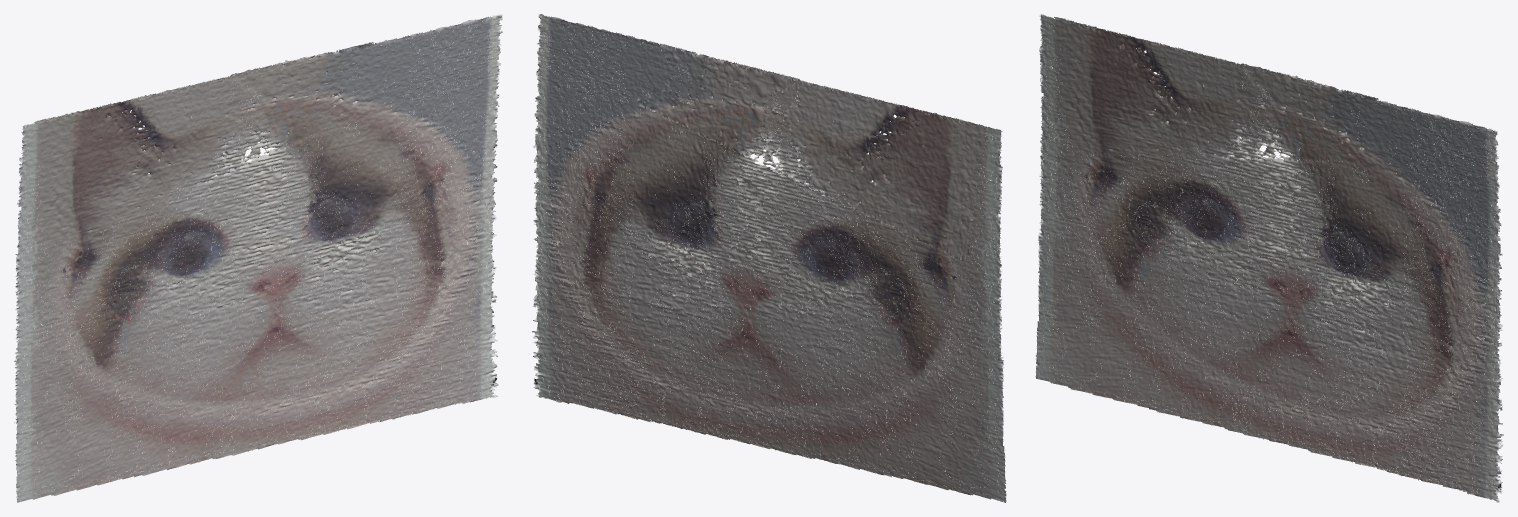
File: photo-transformed.glb
3 renders of one model, left to right at view 1: azimuth 30°, elevation 25°; view 2: azimuth 150°, elevation 25°; view 3: azimuth 330°, elevation 25°, orthographic. The views are drawn at different scales.
Visible parts, largest first — view 1: Geode; view 2: Geode; view 3: Geode.
Part boxes in pixels (x1,y1,x2,y2): Geode: (14,14,503,502); Geode: (532,14,1006,502); Geode: (1035,14,1503,502).
Bounding box in the file's own units: 77.91 × 59.92 × 3.68.
